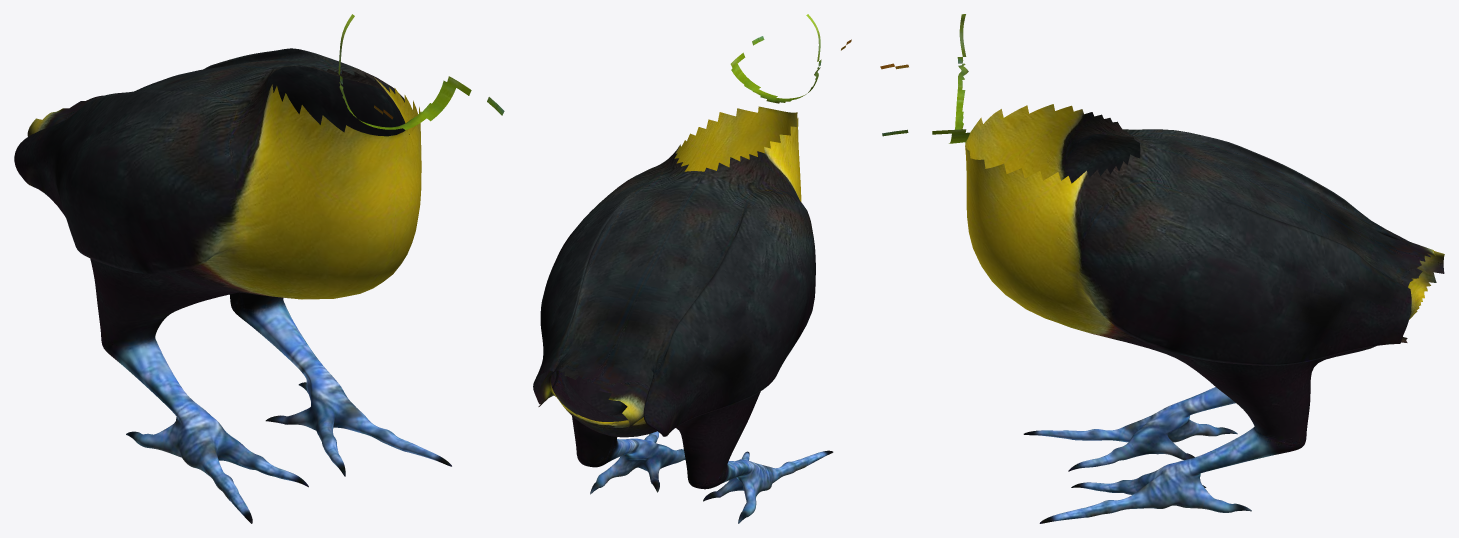
The model's file is tucanbody.obj.
The picture shows the model from 3 angles, left to right: view 1: azimuth 30°, elevation 25°; view 2: azimuth 150°, elevation 25°; view 3: azimuth 270°, elevation 25°; orthographic projection. The views are drawn at different scales.
Parts seen in each view (by area): view 1: 12260_Bird_Toucan_v3_l2; view 2: 12260_Bird_Toucan_v3_l2; view 3: 12260_Bird_Toucan_v3_l2.
Part boxes in pixels (x1,y1,x2,y2): 12260_Bird_Toucan_v3_l2: [14, 14, 504, 523]; 12260_Bird_Toucan_v3_l2: [533, 14, 851, 523]; 12260_Bird_Toucan_v3_l2: [880, 14, 1444, 523].
Bounding box in the file's own units: 1.6 × 2.73 × 3.1.
